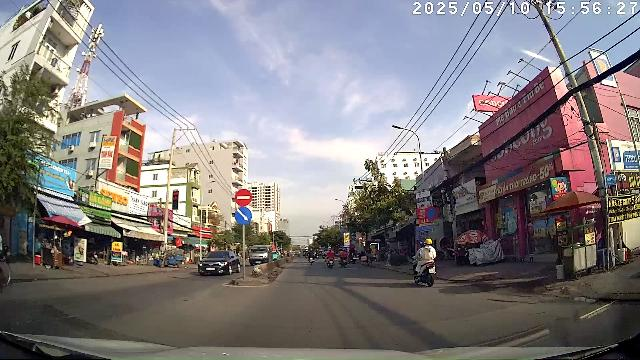102-cam-di-nguoc-chieu: (235, 188, 252, 207)
131a-cam-do-xe: (425, 206, 439, 221)
302a-huong-phai-di-vong-chuong-ngai-vat-1: (234, 206, 252, 224)
